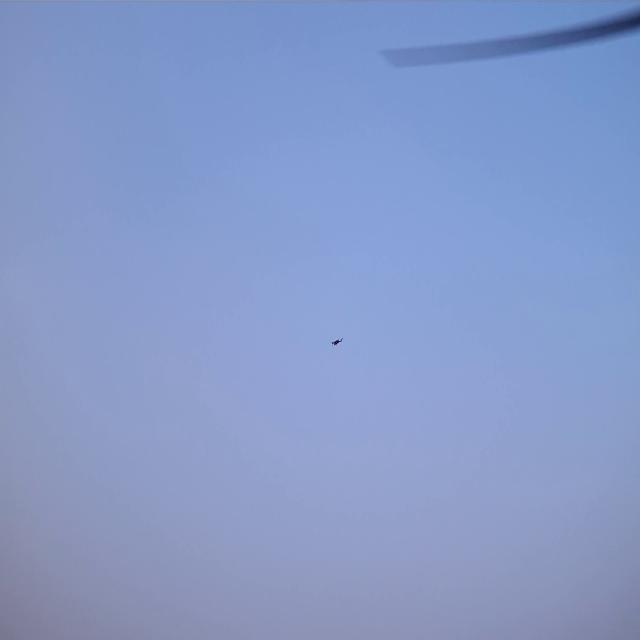UAV: (331, 336, 344, 348)
